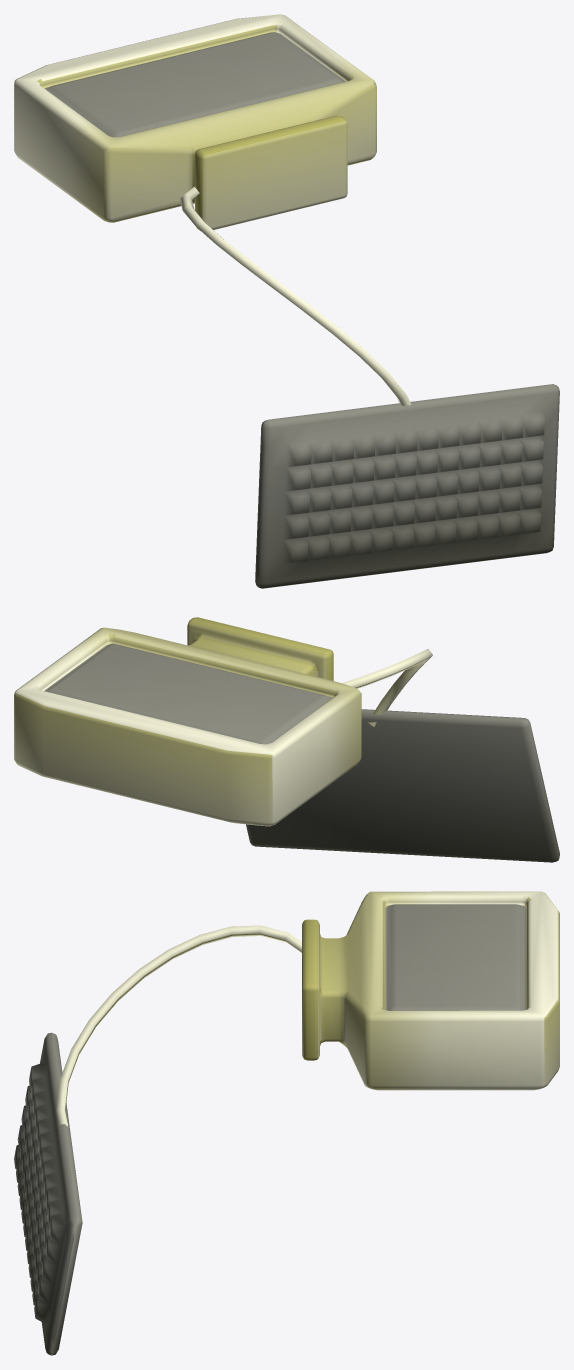
File: Props_Computer_01.fbx
3 renders of one model, top to bottom at view 1: azimuth 30°, elevation 25°; view 2: azimuth 150°, elevation 25°; view 3: azimuth 270°, elevation 25°, orthographic. The views are drawn at different scales.
Parts seen in each view (by area): view 1: Props_Computer_01; view 2: Props_Computer_01; view 3: Props_Computer_01.
Boxes of the visible parts, x1=… form: Props_Computer_01: x1=14, y1=14, x2=559, y2=588; Props_Computer_01: x1=14, y1=617, x2=559, y2=862; Props_Computer_01: x1=14, y1=891, x2=559, y2=1355.
Bounding box in the file's own units: 61.87 × 63.7 × 93.28.
